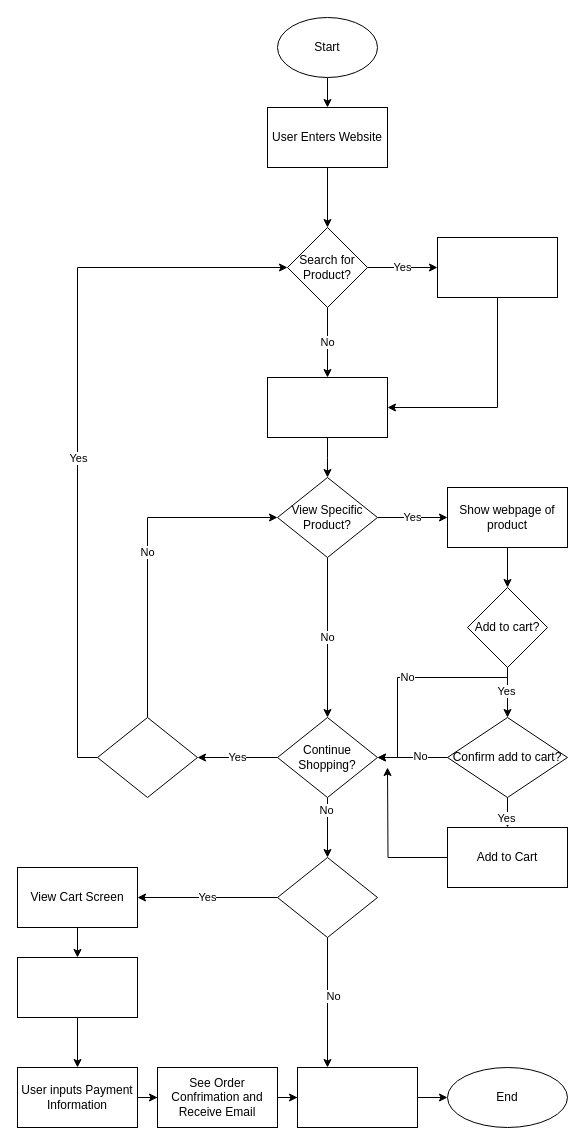
This 585x1145 diagram has some shape labels left out. The shapes that lost their labels are listed below. From the top down, each one's centre as x and y in pixels, then its label:
At point 497,267: "Provide input to website of search".
At point 327,407: "User begins looking over products".
At point 147,757: "Search New Product?".
At point 327,897: "Checkout?".
At point 77,987: "View Payment Screen".
At point 357,1097: "User Leaves Website".
